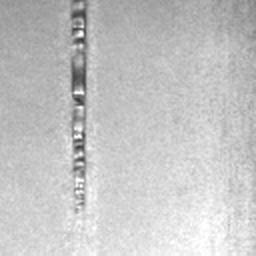Slag inclusion: (68, 0, 88, 214)
